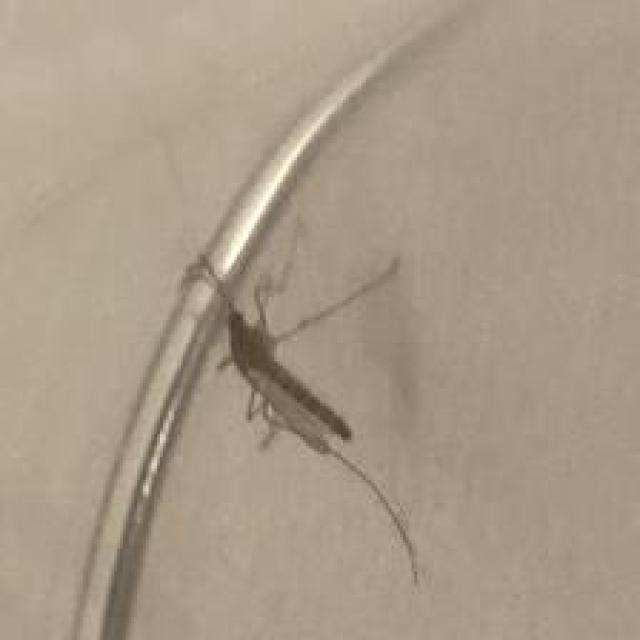Culex: (202, 248, 422, 586)
